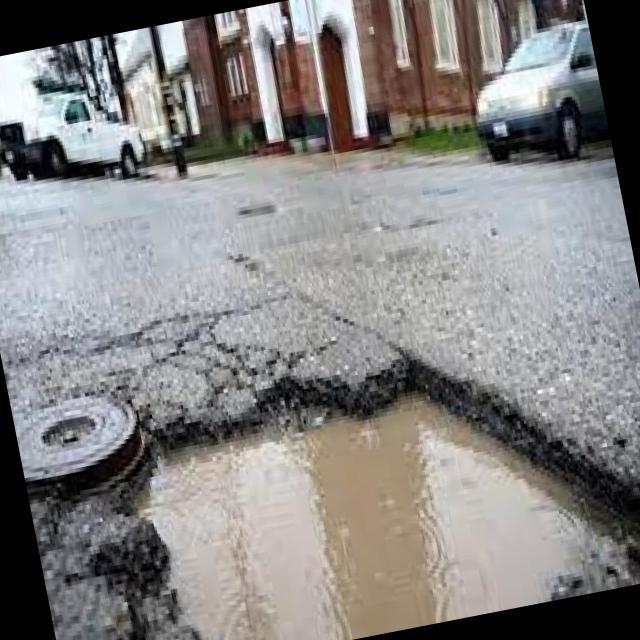pothole: (94, 314, 626, 636)
